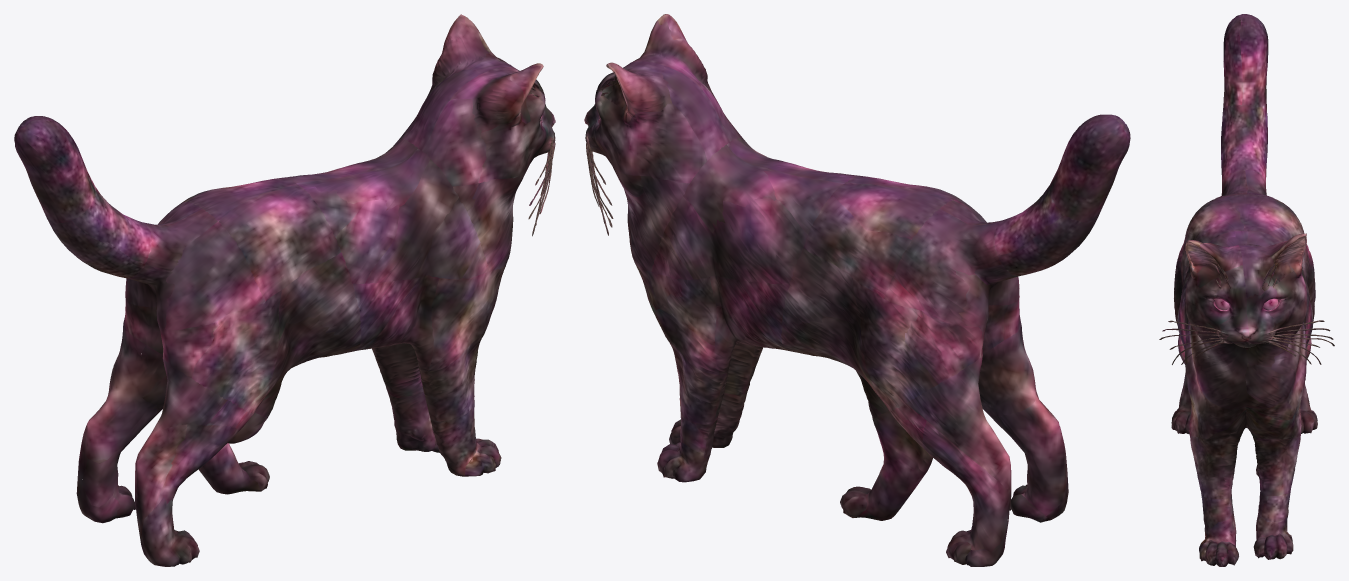
Rendered from QCGENESIS.glb.
3 renders of one model, left to right at view 1: azimuth 30°, elevation 25°; view 2: azimuth 150°, elevation 25°; view 3: azimuth 270°, elevation 25°, orthographic. The views are drawn at different scales.
Parts seen in each view (by area): view 1: tripo_node_6348672f-5f89-43e0-bc50-4ea9cf970f99; view 2: tripo_node_6348672f-5f89-43e0-bc50-4ea9cf970f99; view 3: tripo_node_6348672f-5f89-43e0-bc50-4ea9cf970f99.
Boxes of the visible parts, left/top/right/bottom form: tripo_node_6348672f-5f89-43e0-bc50-4ea9cf970f99: left=14, top=14, right=555, bottom=566; tripo_node_6348672f-5f89-43e0-bc50-4ea9cf970f99: left=584, top=14, right=1130, bottom=566; tripo_node_6348672f-5f89-43e0-bc50-4ea9cf970f99: left=1159, top=14, right=1334, bottom=566.
Size of the model in its own units: 1.27 by 0.9998 by 0.4266.
Materials: 1 (1 with a texture image).
